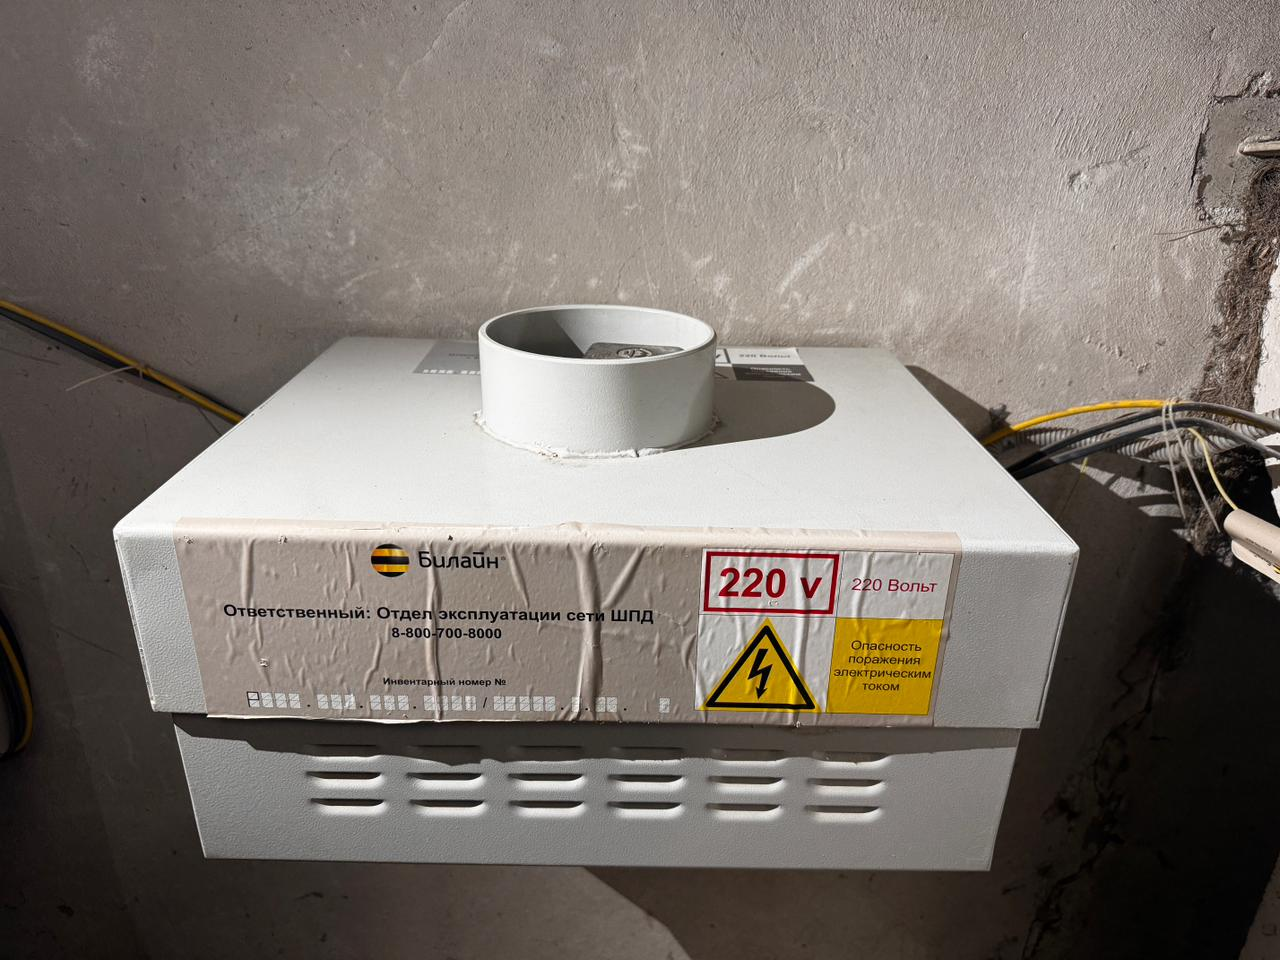shta-ps: (99, 289, 1092, 881)
